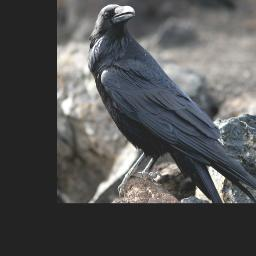Crow: (86, 3, 256, 203)
